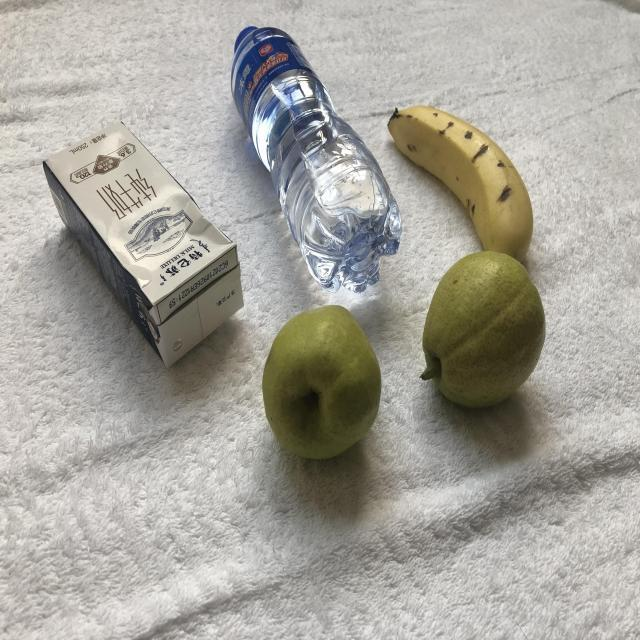Banana: (385, 71, 544, 283)
